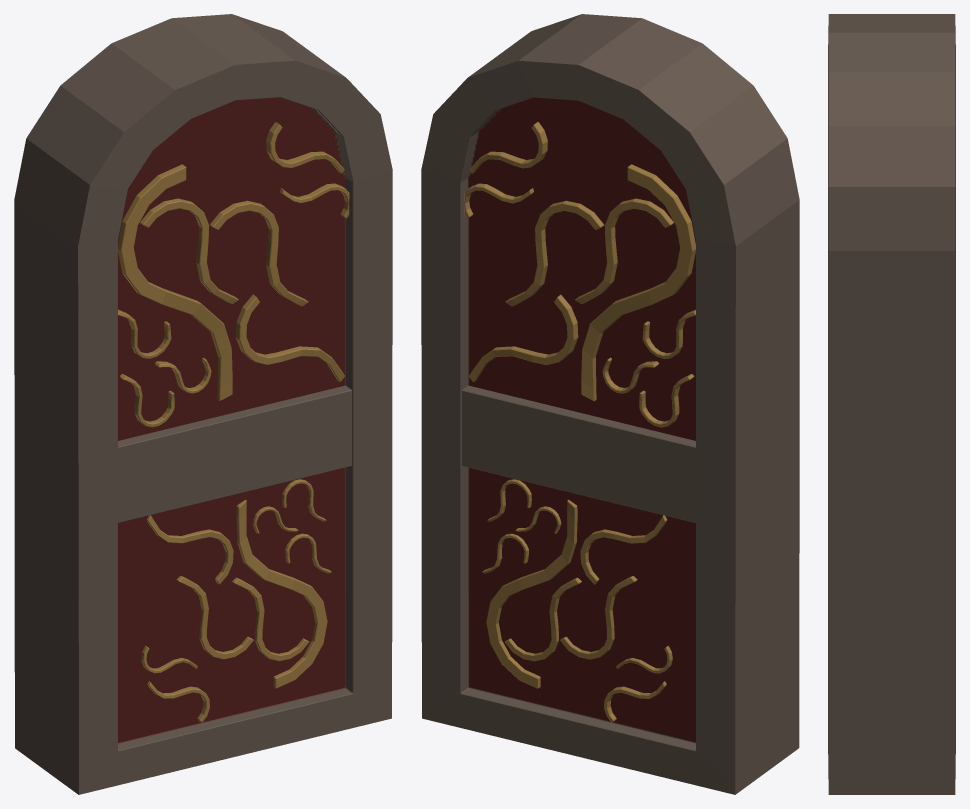
The model's file is PortaDetalhada.fbx.
The picture shows the model from 3 angles, left to right: view 1: azimuth 30°, elevation 25°; view 2: azimuth 150°, elevation 25°; view 3: azimuth 270°, elevation 25°; orthographic projection.
Visible parts, largest first — view 1: PortaDetalhada; view 2: PortaDetalhada; view 3: PortaDetalhada.
Boxes of the visible parts, x1=… form: PortaDetalhada: x1=14, y1=14, x2=392, y2=794; PortaDetalhada: x1=421, y1=14, x2=799, y2=794; PortaDetalhada: x1=828, y1=14, x2=955, y2=794.
Size of the model in its own units: 455 by 955 by 161.
